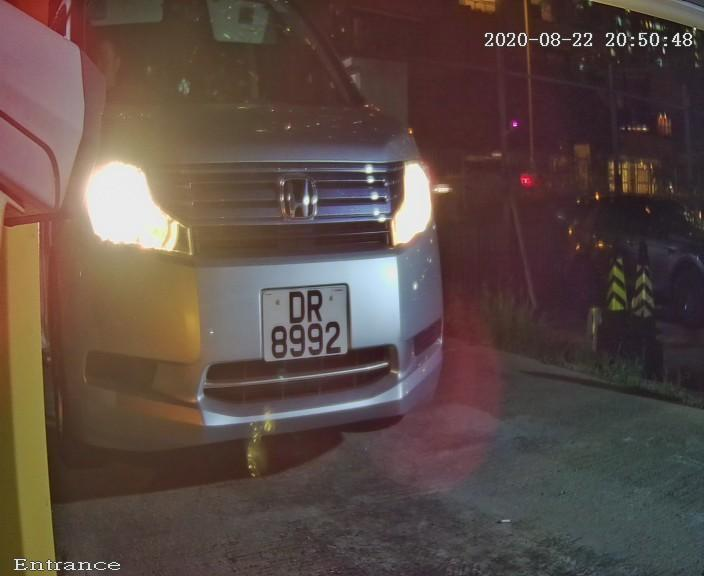Car: (4, 16, 516, 507)
License Plate: (246, 271, 365, 379)
